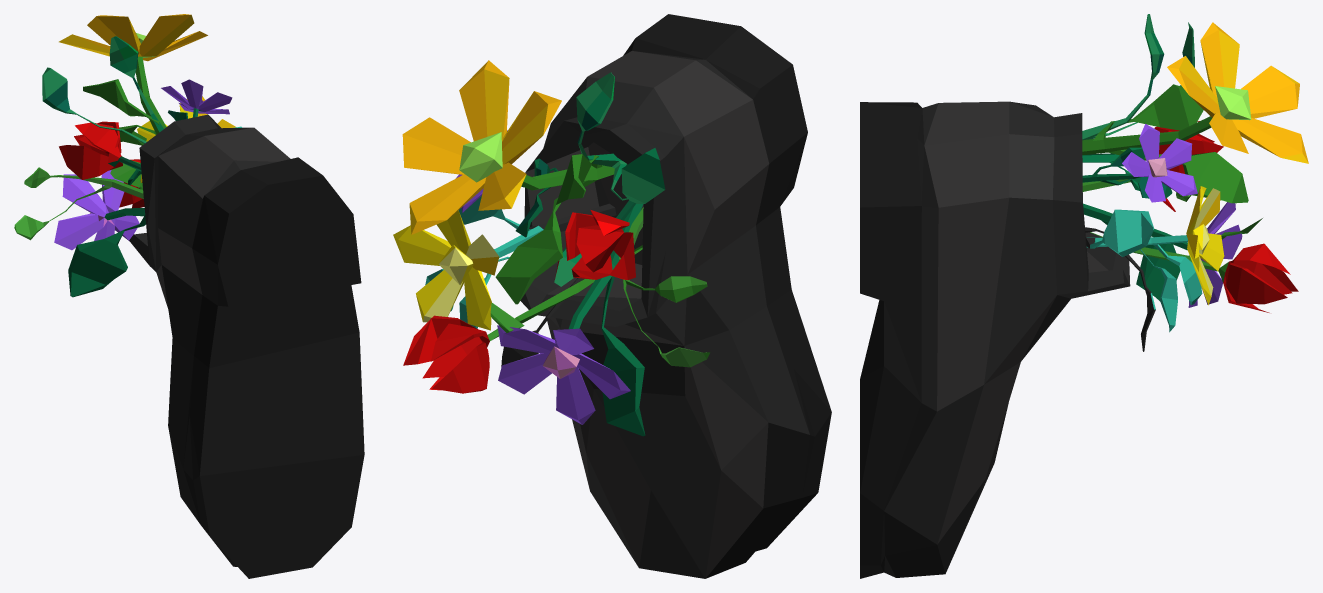
Rendered from shoes.fbx.
3 renders of one model, left to right at view 1: azimuth 30°, elevation 25°; view 2: azimuth 150°, elevation 25°; view 3: azimuth 270°, elevation 25°, orthographic. The views are drawn at different scales.
Visible parts, largest first — view 1: shoes; view 2: shoes; view 3: shoes.
Part boxes in pixels (x1,y1,x2,y2): shoes: (14,14,364,578); shoes: (393,14,831,578); shoes: (860,14,1308,578).
Size of the model in its own units: 359 by 675 by 523.
